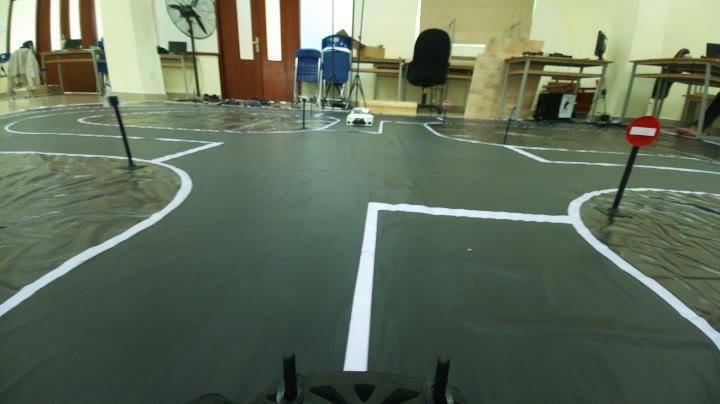no_entry: (626, 111, 662, 151)
